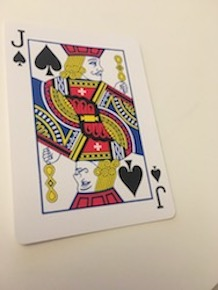JackOfSpades: (2, 17, 178, 248)
